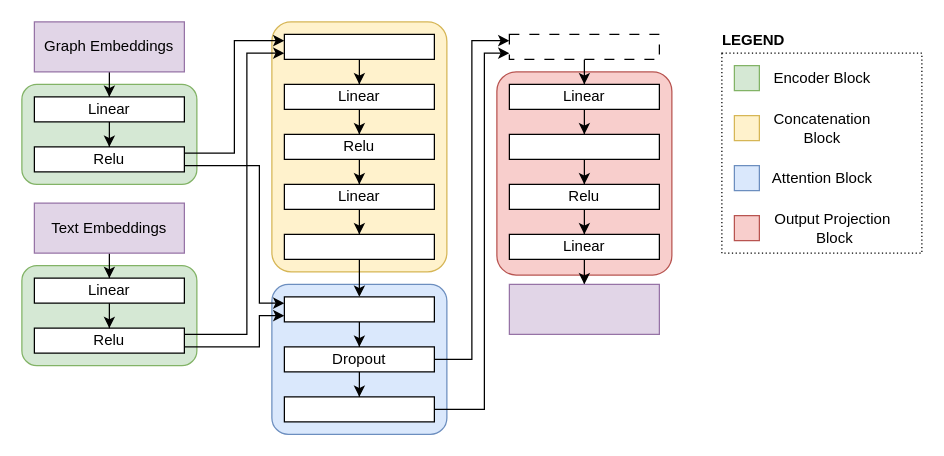
The diagram is 944 pixels wide and 456 high, and some of its shapes have lost their labels. Here are the shapes that lost their labels. From the top down, the centre of each, then its label:
the point at 358,46: Concatenation
the point at 583,46: Residual
the point at 583,146: Layer Normalization
the point at 358,246: Softmax
the point at 358,309: Cross-Modal Fusion
the point at 583,308: Output Embedding
the point at 358,409: GAT Conv
